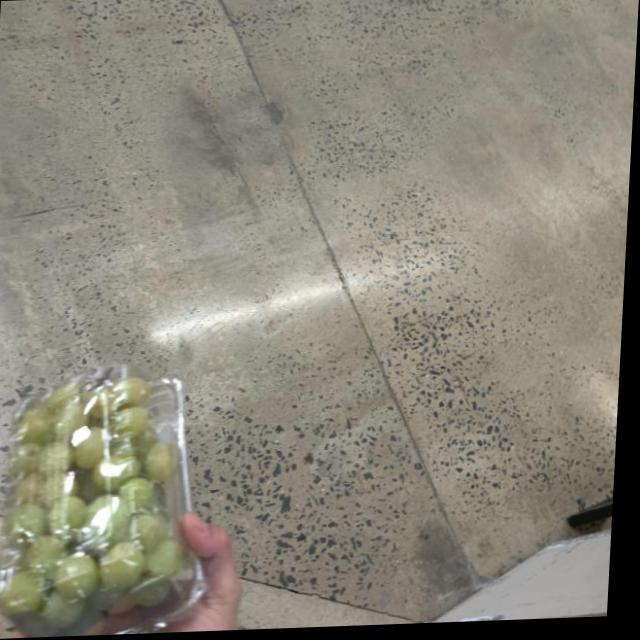Grapes: (0, 363, 219, 639)
